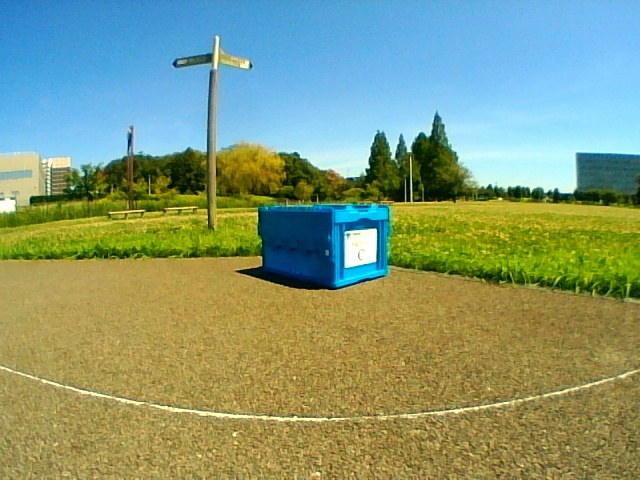blue_box: (258, 206, 386, 274)
tag_c: (347, 233, 373, 264)
